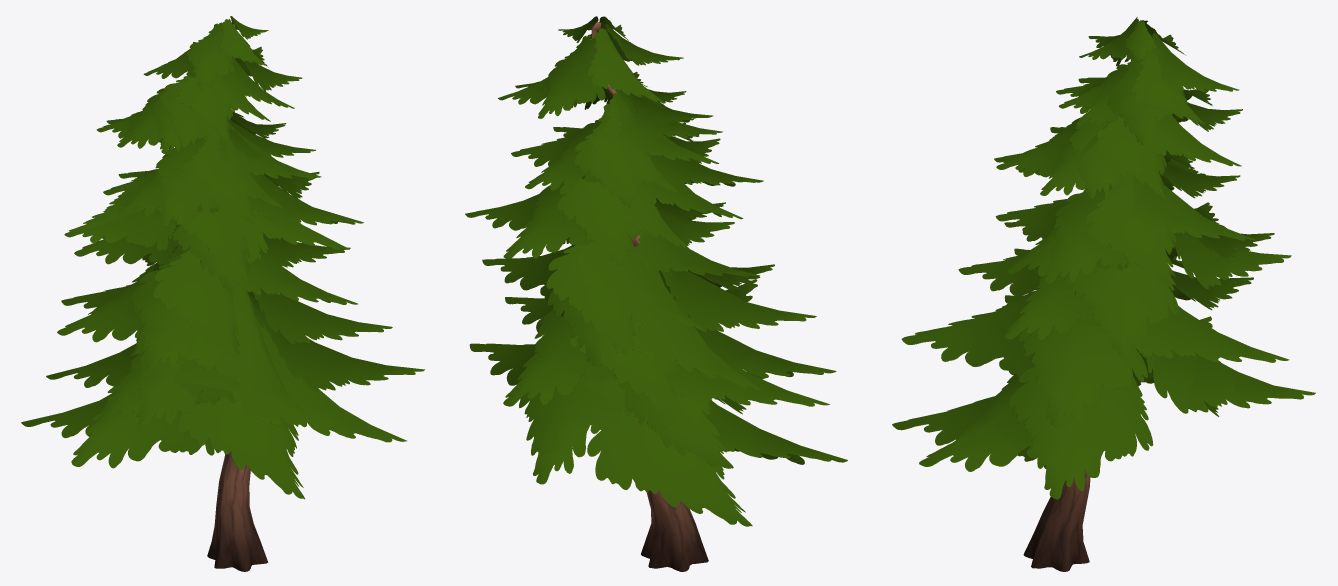
Rendered from nature-pine-5.glb.
The picture shows the model from 3 angles, left to right: view 1: azimuth 30°, elevation 25°; view 2: azimuth 150°, elevation 25°; view 3: azimuth 270°, elevation 25°; orthographic projection. The views are drawn at different scales.
Parts seen in each view (by area): view 1: Pine_5; view 2: Pine_5; view 3: Pine_5.
Part boxes in pixels (<box>): Pine_5: <box>21,16,424,571</box>; Pine_5: <box>465,16,847,571</box>; Pine_5: <box>892,17,1315,571</box>.
Size of the model in its own units: 6.42 by 8.72 by 6.22.
Materials: 2 (2 with a texture image).
